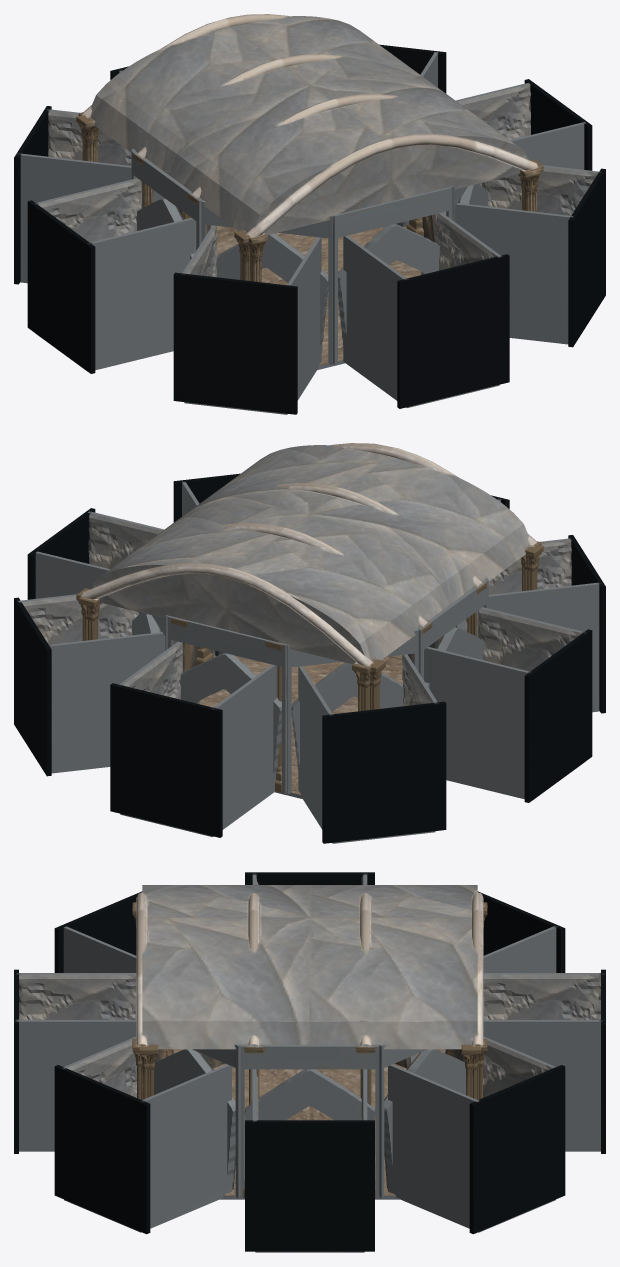
The model's file is room.glb.
3 views of the same model, one above another, from view 1: azimuth 30°, elevation 25°; view 2: azimuth 150°, elevation 25°; view 3: azimuth 270°, elevation 25° (orthographic). The views are drawn at different scales.
Visible parts, largest first — view 1: DIAMOND-2; view 2: DIAMOND-2; view 3: DIAMOND-2.
Part boxes in pixels (bbox=[...]): DIAMOND-2: bbox=[14, 14, 605, 414]; DIAMOND-2: bbox=[14, 443, 605, 843]; DIAMOND-2: bbox=[14, 872, 605, 1252].
Size of the model in its own units: 14.12 by 5.75 by 14.12.
Materials: 1 (1 with a texture image).
